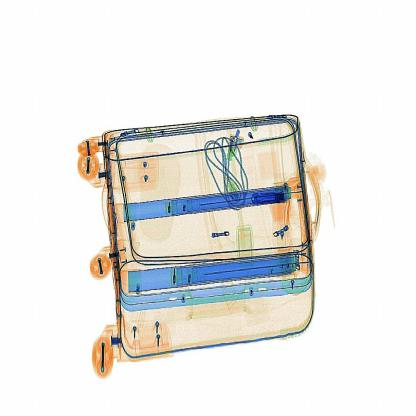knife: (246, 184, 296, 212)
